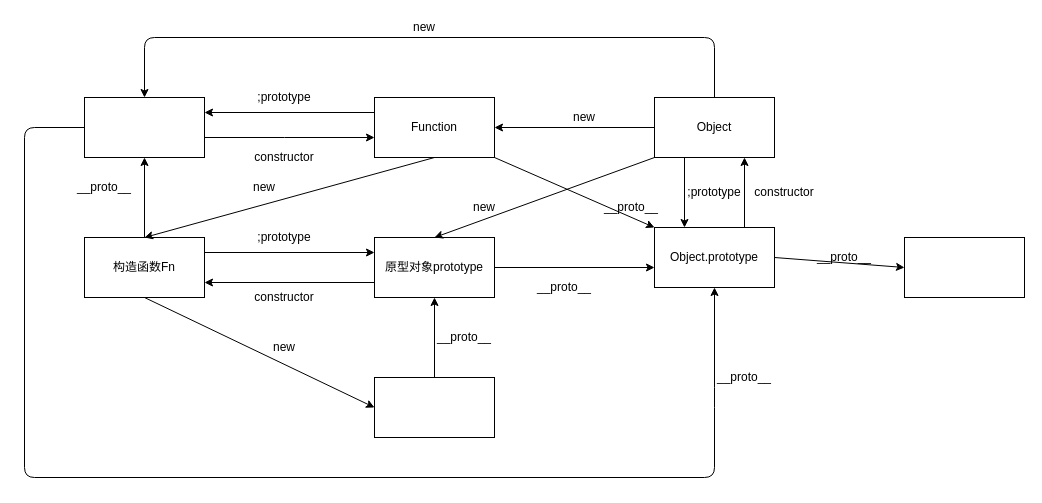
This 1042x503 diagram has some shape labels left out. Here are the shapes that lost their labels. From the top down, the centre of each, then its label:
At pixel 144 127: "Function.prototype".
At pixel 964 267: "null".
At pixel 434 407: "实例对象f".
